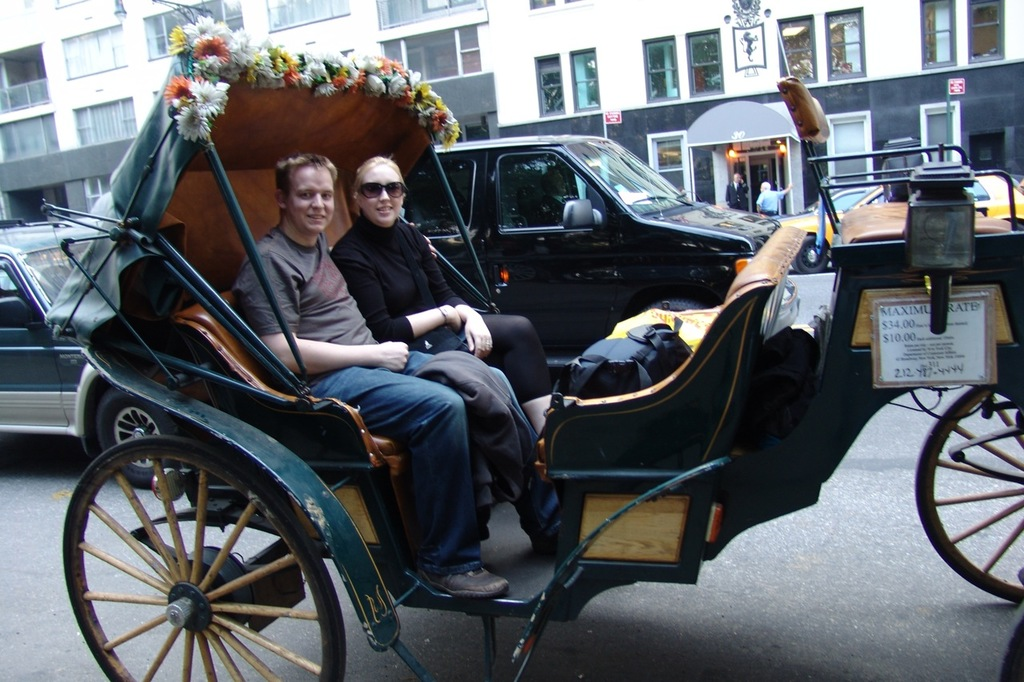Car: (376, 143, 808, 343), (0, 220, 178, 486)
